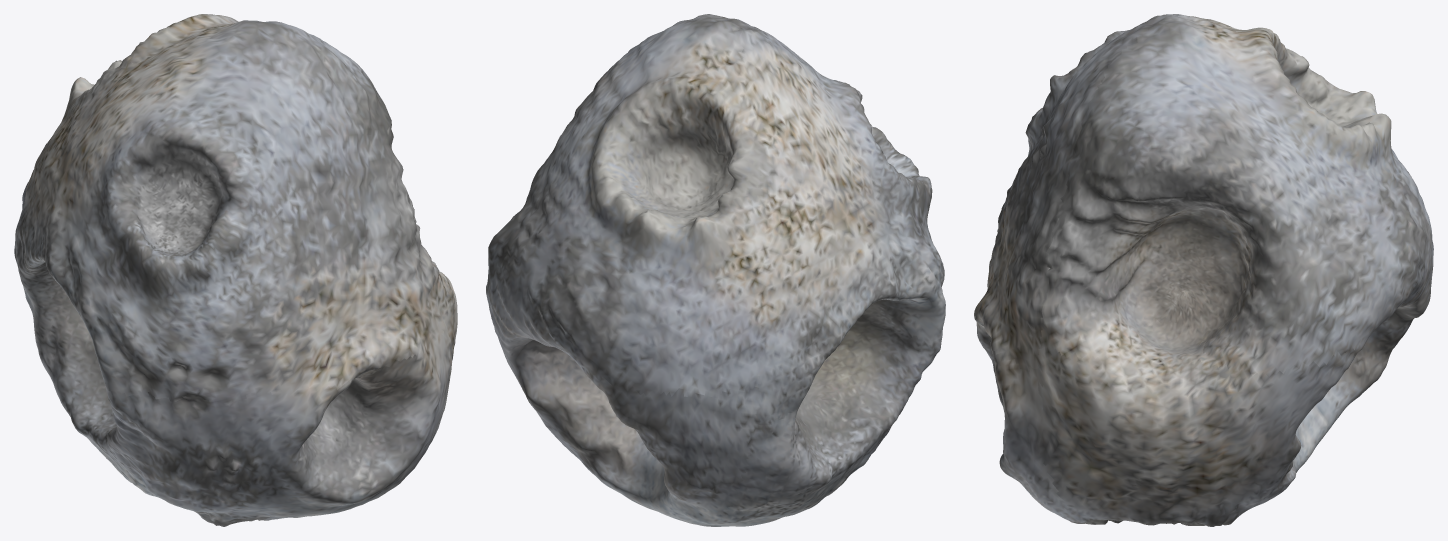
The picture shows the model from 3 angles, left to right: view 1: azimuth 30°, elevation 25°; view 2: azimuth 150°, elevation 25°; view 3: azimuth 270°, elevation 25°; orthographic projection.
Parts seen in each view (by area): view 1: PM3D_Sphere3D1_PM3D_Sphere3D10_0, PM3D_Sphere3D1_PM3D_Sphere3D13_0, PM3D_Sphere3D1_PM3D_Sphere3D12_0, PM3D_Sphere3D1_PM3D_Sphere3D11_0; view 2: PM3D_Sphere3D1_PM3D_Sphere3D12_0, PM3D_Sphere3D1_PM3D_Sphere3D10_0, PM3D_Sphere3D1_PM3D_Sphere3D11_0, PM3D_Sphere3D1_PM3D_Sphere3D13_0; view 3: PM3D_Sphere3D1_PM3D_Sphere3D12_0, PM3D_Sphere3D1_PM3D_Sphere3D11_0, PM3D_Sphere3D1_PM3D_Sphere3D10_0, PM3D_Sphere3D1_PM3D_Sphere3D13_0.
Part boxes in pixels (<box>): PM3D_Sphere3D1_PM3D_Sphere3D10_0: <box>14,32,438,402</box>; PM3D_Sphere3D1_PM3D_Sphere3D13_0: <box>24,290,446,526</box>; PM3D_Sphere3D1_PM3D_Sphere3D12_0: <box>22,14,444,301</box>; PM3D_Sphere3D1_PM3D_Sphere3D11_0: <box>435,271,457,425</box>; PM3D_Sphere3D1_PM3D_Sphere3D12_0: <box>486,14,768,398</box>; PM3D_Sphere3D1_PM3D_Sphere3D10_0: <box>721,16,945,425</box>; PM3D_Sphere3D1_PM3D_Sphere3D11_0: <box>488,300,760,526</box>; PM3D_Sphere3D1_PM3D_Sphere3D13_0: <box>705,326,942,526</box>; PM3D_Sphere3D1_PM3D_Sphere3D12_0: <box>1040,15,1433,377</box>; PM3D_Sphere3D1_PM3D_Sphere3D11_0: <box>1037,270,1432,526</box>; PM3D_Sphere3D1_PM3D_Sphere3D10_0: <box>974,14,1225,372</box>; PM3D_Sphere3D1_PM3D_Sphere3D13_0: <box>974,313,1185,525</box>.
Size of the model in its own units: 1.52 by 1.88 by 1.59.
